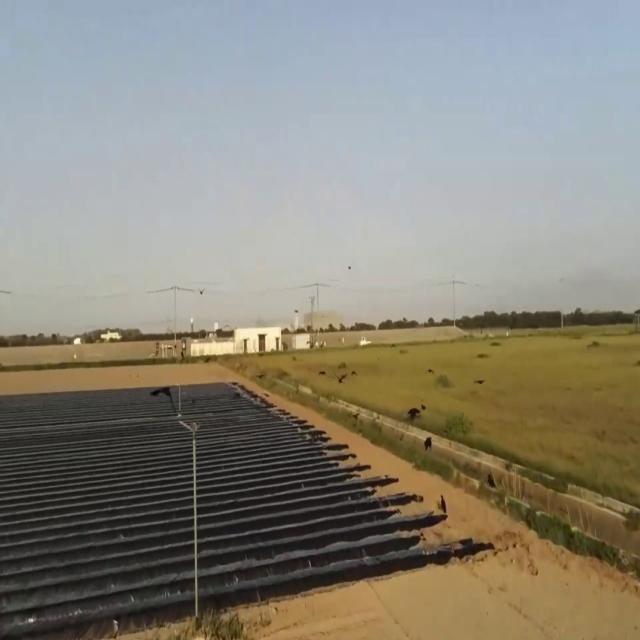bird: (424, 429, 432, 458)
